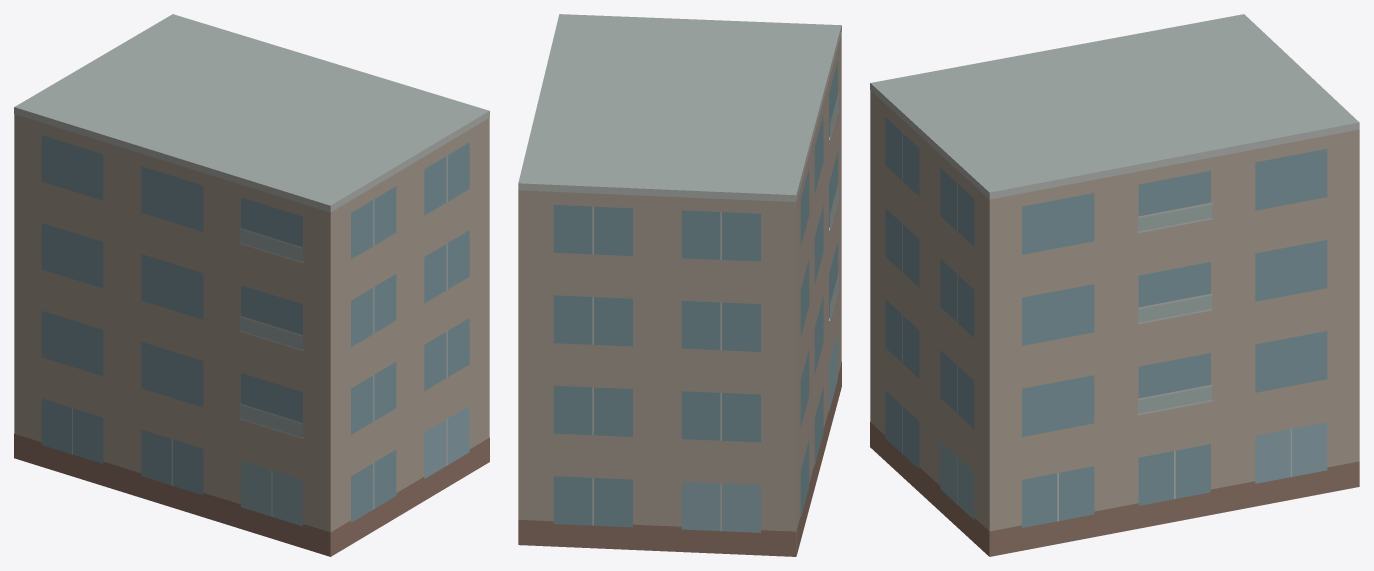
The model's file is survey-upis-32681242.glb.
3 views of the same model, side by side, from view 1: azimuth 30°, elevation 25°; view 2: azimuth 150°, elevation 25°; view 3: azimuth 270°, elevation 25° (orthographic). The views are drawn at different scales.
Visible parts, largest first — view 1: survey-upis-32681242.tmp; view 2: survey-upis-32681242.tmp; view 3: survey-upis-32681242.tmp.
Part boxes in pixels (<box>): survey-upis-32681242.tmp: <box>14,14,489,556</box>; survey-upis-32681242.tmp: <box>518,14,841,556</box>; survey-upis-32681242.tmp: <box>870,14,1359,556</box>.
Bounding box in the file's own units: 13.29 × 12.63 × 15.39.
